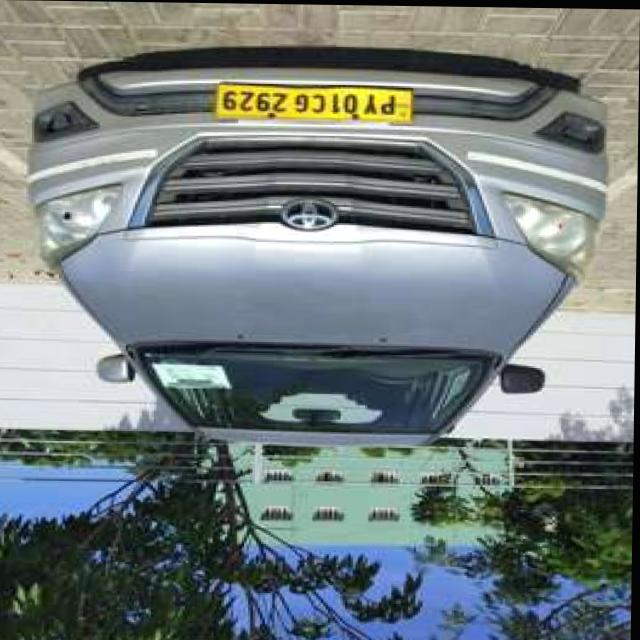plate: (214, 81, 413, 123)
